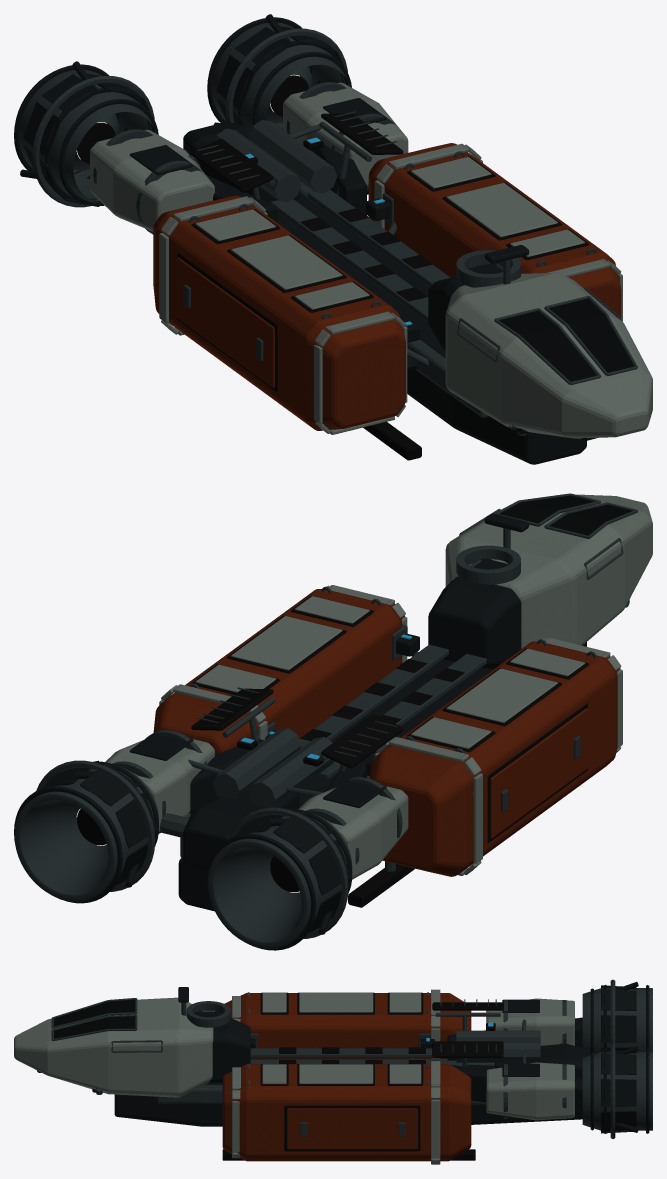
3 renders of one model, top to bottom at view 1: azimuth 30°, elevation 25°; view 2: azimuth 150°, elevation 25°; view 3: azimuth 270°, elevation 25°, orthographic. The views are drawn at different scales.
Parts seen in each view (by area): view 1: A4_cargo, A4_propulsion, A4_crew, A4_structure, A4_load_frame, A4_services, A4_thermal, A4_locks; view 2: A4_cargo, A4_propulsion, A4_crew, A4_load_frame, A4_structure, A4_services, A4_thermal; view 3: A4_cargo, A4_propulsion, A4_crew, A4_load_frame, A4_structure, A4_services, A4_thermal.
Boxes of the visible parts, box(x1,y1,x2,y2) form: A4_cargo: box(153, 143, 622, 434); A4_propulsion: box(14, 14, 408, 234); A4_crew: box(428, 250, 652, 440); A4_structure: box(206, 145, 586, 464); A4_load_frame: box(183, 122, 489, 417); A4_services: box(188, 120, 529, 435); A4_thermal: box(191, 111, 403, 199); A4_locks: box(278, 198, 419, 342); A4_cargo: box(153, 585, 622, 876); A4_propulsion: box(14, 730, 408, 950); A4_crew: box(428, 493, 652, 669); A4_load_frame: box(159, 644, 486, 869); A4_structure: box(158, 642, 586, 911); A4_services: box(188, 513, 629, 807); A4_thermal: box(191, 687, 403, 771); A4_cargo: box(222, 989, 471, 1164); A4_propulsion: box(486, 979, 652, 1138); A4_crew: box(14, 997, 250, 1097); A4_load_frame: box(157, 1043, 590, 1122); A4_structure: box(114, 1017, 582, 1160); A4_services: box(92, 987, 540, 1094); A4_thermal: box(432, 999, 503, 1067).
Bounding box in the file's own units: 11.6 × 7.41 × 29.55.
Materials: 1 (1 with a texture image).
